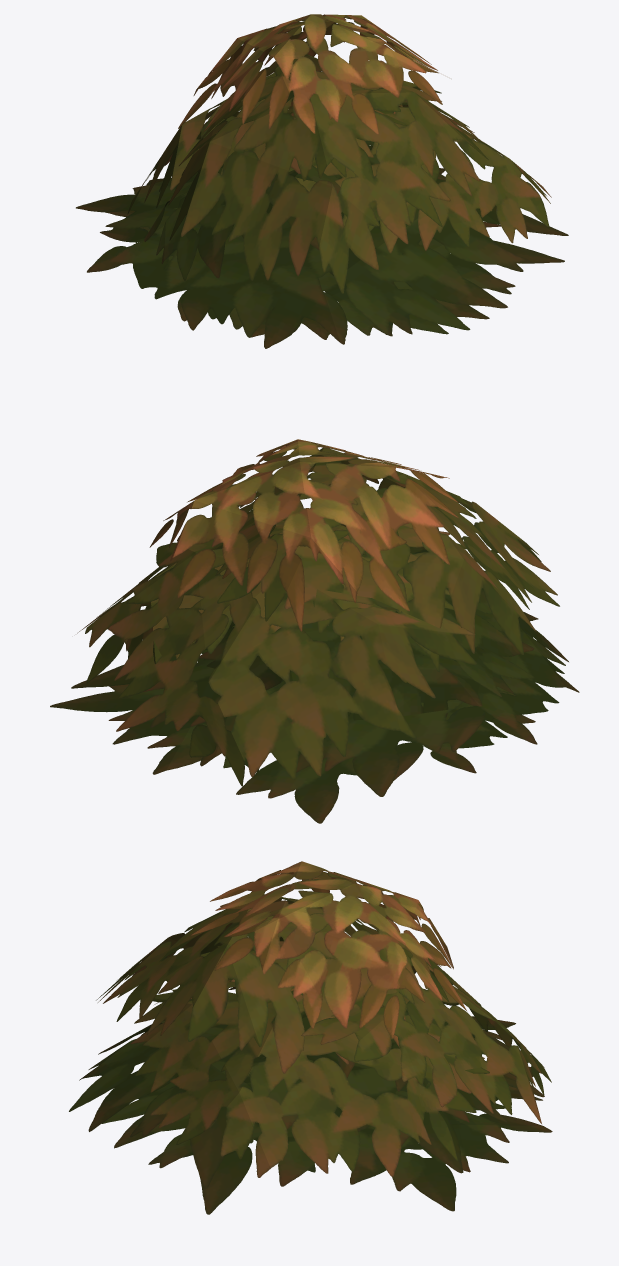
File: bush_03.fbx
3 renders of one model, top to bottom at view 1: azimuth 30°, elevation 25°; view 2: azimuth 150°, elevation 25°; view 3: azimuth 270°, elevation 25°, orthographic. The views are drawn at different scales.
Visible parts, largest first — view 1: obj0.088; view 2: obj0.088; view 3: obj0.088.
Boxes of the visible parts, <box> form: obj0.088: <box>76,14,568,348</box>; obj0.088: <box>50,439,579,823</box>; obj0.088: <box>69,861,552,1214</box>.
Size of the model in its own units: 5.83 by 2.76 by 5.74.
